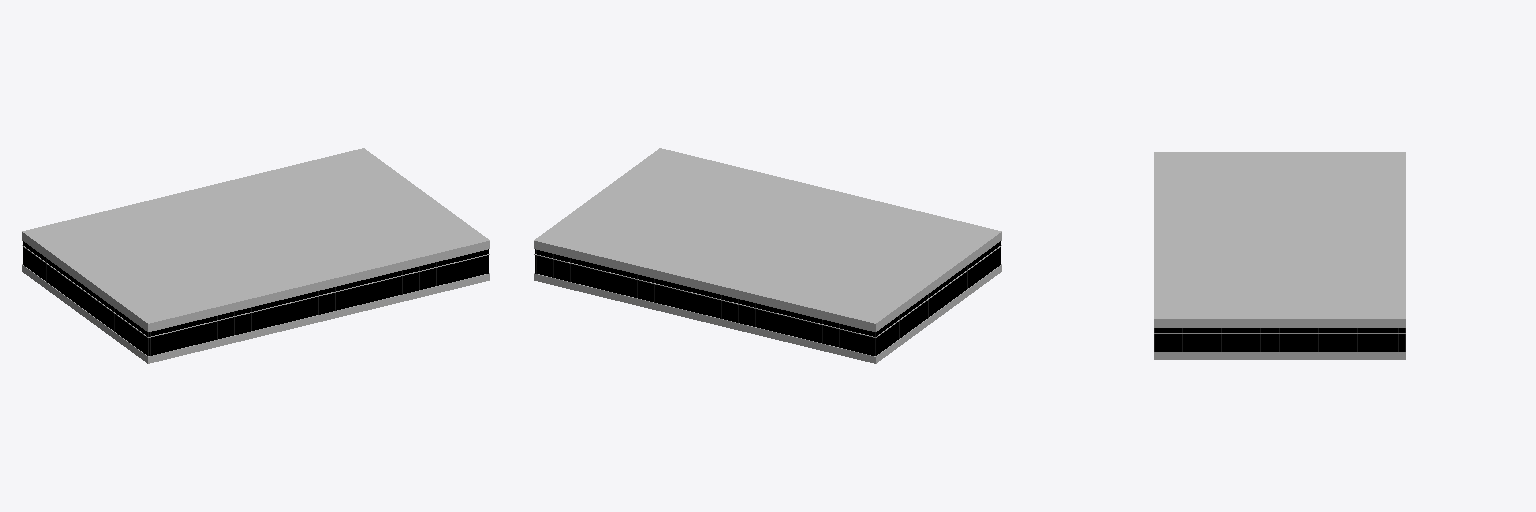
File: 11footEnvelopeStrip.obj
The picture shows the model from 3 angles: view 1: azimuth 30°, elevation 25°; view 2: azimuth 150°, elevation 25°; view 3: azimuth 270°, elevation 25°; orthographic projection.
Visible parts, largest first — view 1: Layer_5, Layer_1, Layer_2; view 2: Layer_5, Layer_4, Layer_2; view 3: Layer_5, Layer_3.
Boxes of the visible parts, x1,y1,x2,y2 form: Layer_5: [22, 148, 489, 323]; Layer_1: [147, 240, 489, 362]; Layer_2: [23, 233, 147, 362]; Layer_5: [535, 148, 1000, 323]; Layer_4: [534, 240, 876, 363]; Layer_2: [875, 233, 1000, 362]; Layer_5: [1154, 152, 1405, 319]; Layer_3: [1154, 319, 1404, 359].
Bounding box in the file's own units: 38.1 × 4.27 × 24.38.